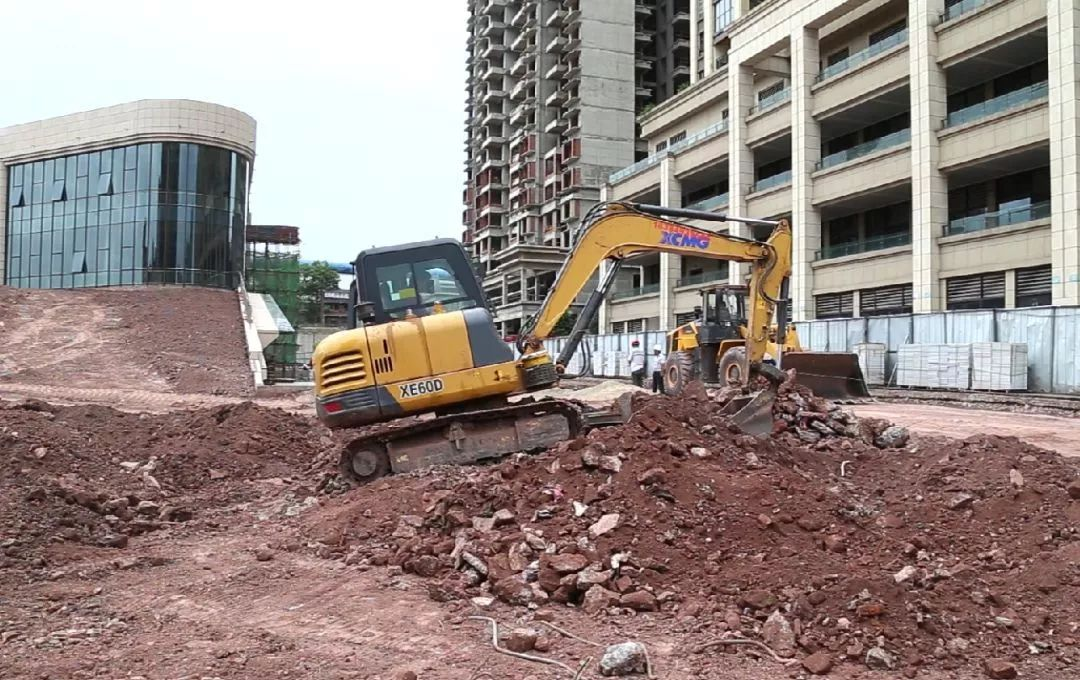excavator: (313, 195, 831, 487)
